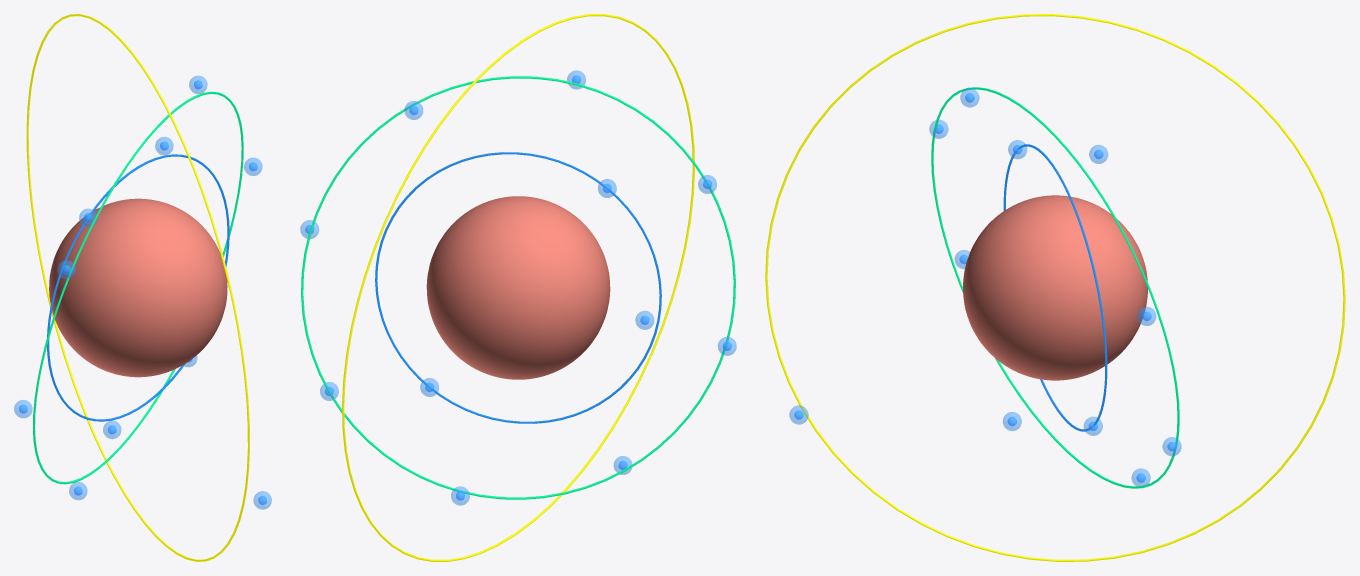
The picture shows the model from 3 angles, left to right: view 1: azimuth 30°, elevation 25°; view 2: azimuth 150°, elevation 25°; view 3: azimuth 270°, elevation 25°; orthographic projection. The views are drawn at different scales.
Parts seen in each view (by area): view 1: Na, object 24, object 7, object 2; view 2: Na, object 24, object 7, object 2; view 3: Na, object 24, object 7, object 2.
Boxes of the visible parts, x1,y1,x2,y2 form: Na: (49,198,227,377); object 24: (26,14,249,561); object 7: (32,91,243,484); object 2: (47,154,229,421); Na: (426,196,610,379); object 24: (342,14,694,561); object 7: (301,76,735,499); object 2: (375,152,661,423); Na: (963,195,1147,380); object 24: (765,14,1345,561); object 7: (931,87,1179,488); object 2: (1003,144,1107,431).
Bounding box in the file's own units: 3.3 × 4.81 × 4.78.
